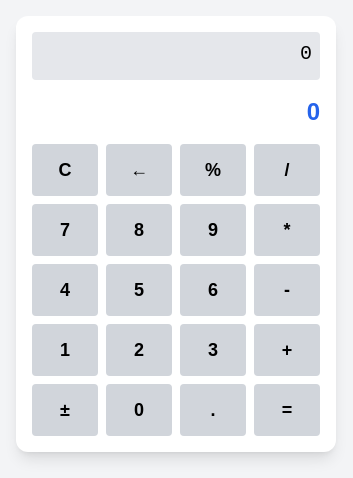
Test: Calculator Integration Test › performs a full calculation flow
Click the button "7".
click(65, 230)  # box x1=32 y1=204 x2=98 y2=256
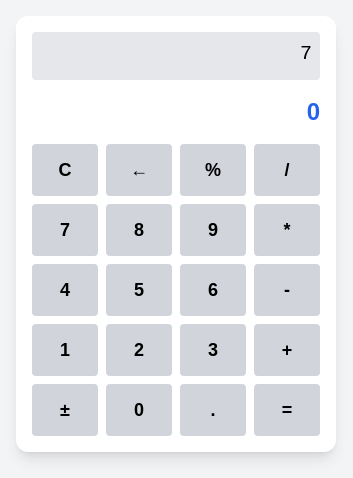
Click the button "+".
click(287, 350)  # box x1=254 y1=324 x2=320 y2=376
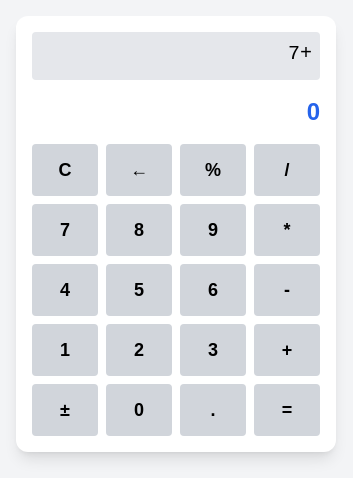
Click the button "3".
click(213, 350)  # box x1=180 y1=324 x2=246 y2=376
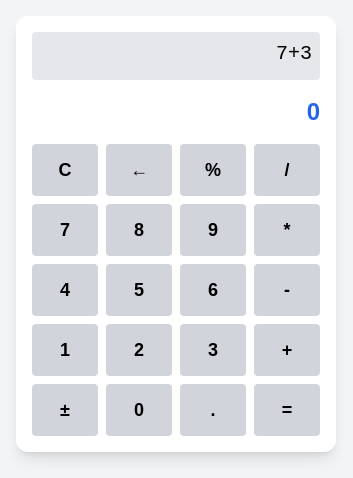
Click the button "=".
click(287, 410)  # box x1=254 y1=384 x2=320 y2=436
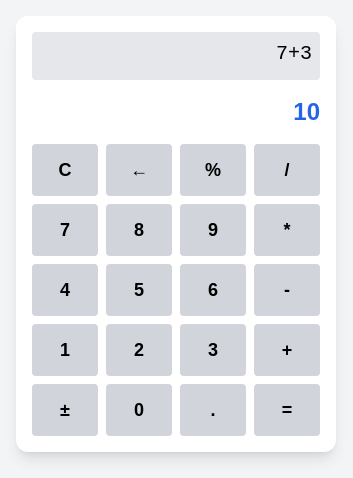
Expected: the text "7+3" is shown, x1=32 y1=32 x2=320 y2=80
Expected: the text "10" is shown, x1=293 y1=98 x2=320 y2=125
